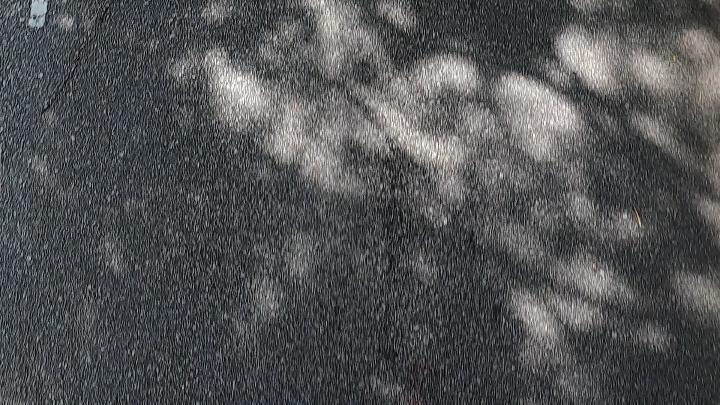Crack: (42, 1, 122, 119), (41, 2, 114, 117)
